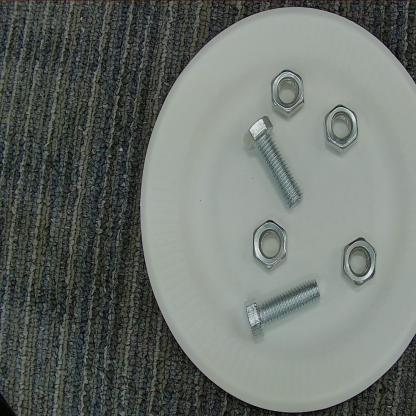FOD: (234, 111, 308, 211), (238, 276, 324, 345), (319, 96, 365, 160), (338, 230, 381, 292), (266, 64, 309, 124), (250, 216, 290, 271)
